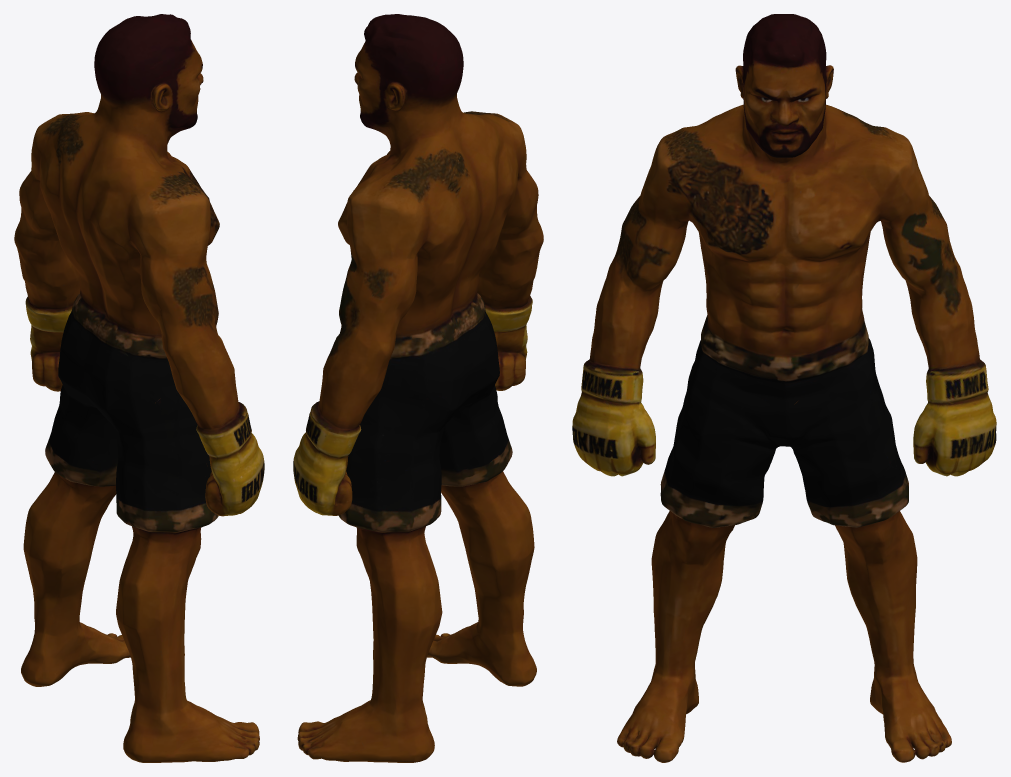
3 views of the same model, side by side, from view 1: azimuth 30°, elevation 25°; view 2: azimuth 150°, elevation 25°; view 3: azimuth 270°, elevation 25° (orthographic). The views are drawn at different scales.
Visible parts, largest first — view 1: tripo_node_0777ccb0-37c1-48a4-8a96-9922355bb9e6; view 2: tripo_node_0777ccb0-37c1-48a4-8a96-9922355bb9e6; view 3: tripo_node_0777ccb0-37c1-48a4-8a96-9922355bb9e6.
Boxes of the visible parts, x1,y1,x2,y2 form: tripo_node_0777ccb0-37c1-48a4-8a96-9922355bb9e6: (14, 14, 264, 762); tripo_node_0777ccb0-37c1-48a4-8a96-9922355bb9e6: (293, 14, 543, 762); tripo_node_0777ccb0-37c1-48a4-8a96-9922355bb9e6: (572, 14, 996, 762).
Bounding box in the file's own units: 0.1974 × 1 × 0.5346.
Materials: 1 (1 with a texture image).
